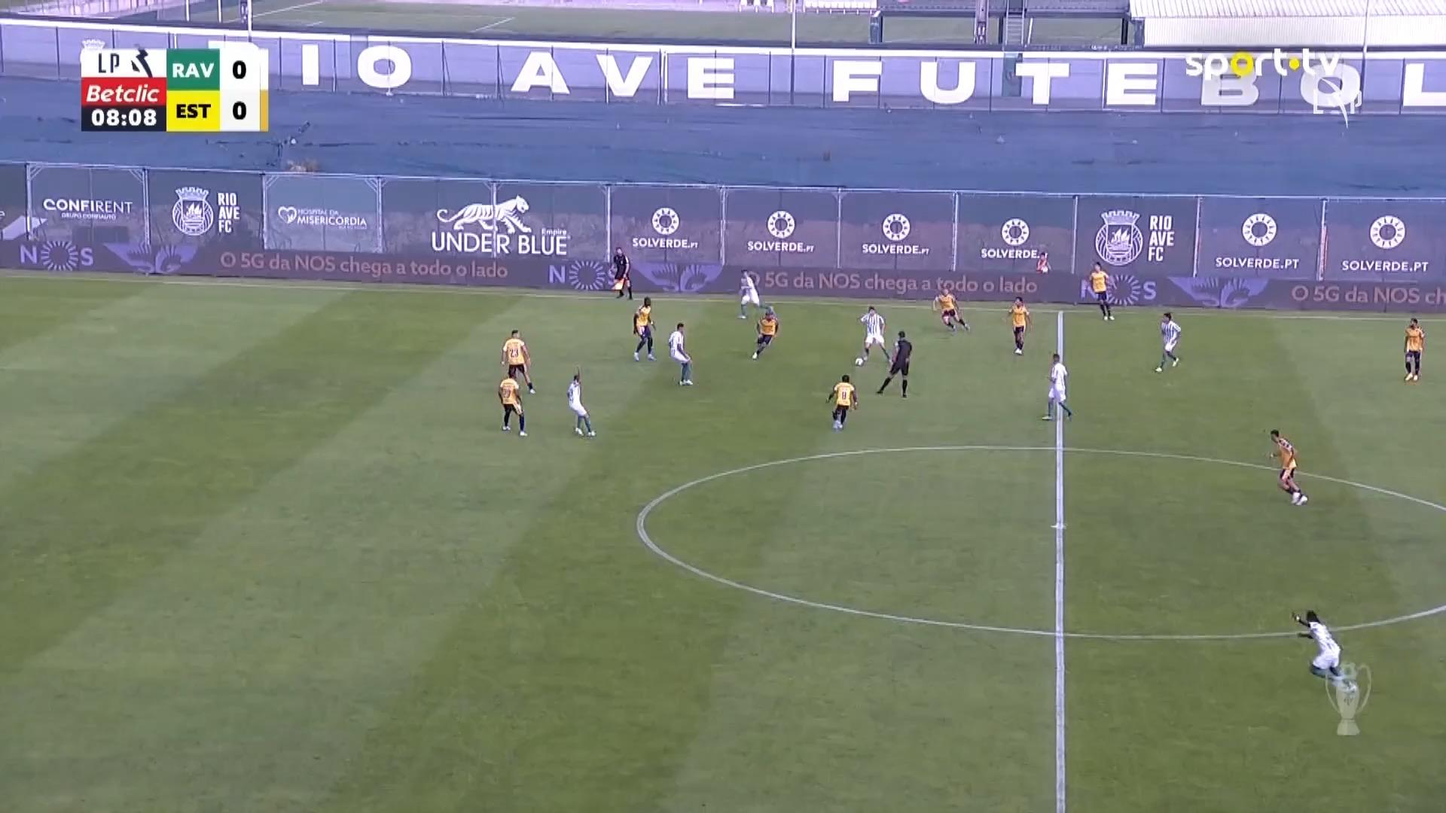ball: (853, 356, 863, 366)
player: (1291, 608, 1349, 684), (1268, 428, 1307, 505), (499, 327, 535, 394), (853, 305, 890, 366), (1041, 352, 1072, 422), (566, 369, 595, 437), (497, 372, 527, 437), (825, 373, 858, 431), (667, 321, 694, 385), (1154, 310, 1181, 373), (631, 296, 657, 361), (932, 288, 969, 333), (1088, 261, 1115, 321), (750, 305, 779, 360), (1402, 316, 1425, 382), (1007, 296, 1031, 355), (737, 268, 761, 319)
referee: (875, 330, 912, 397), (609, 245, 633, 299)
